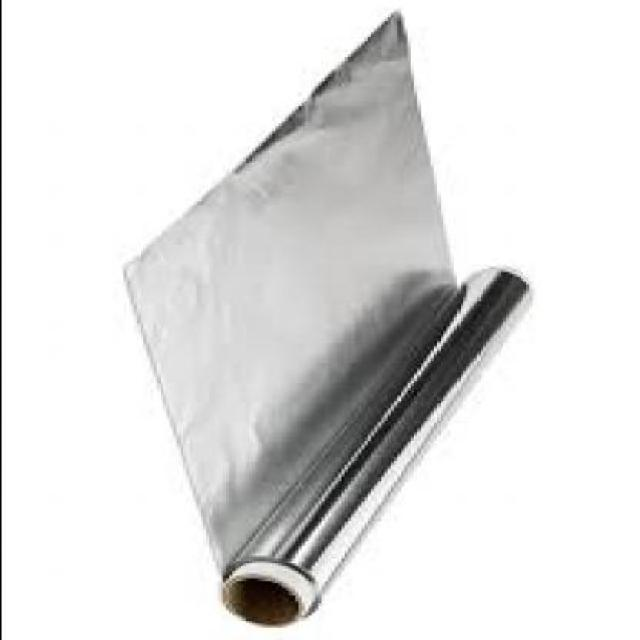METAL: (128, 18, 534, 627)
